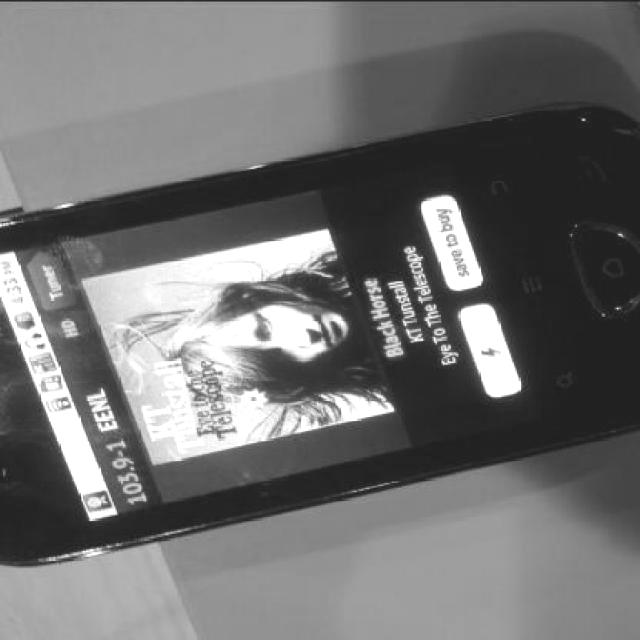fake: (9, 95, 634, 560)
